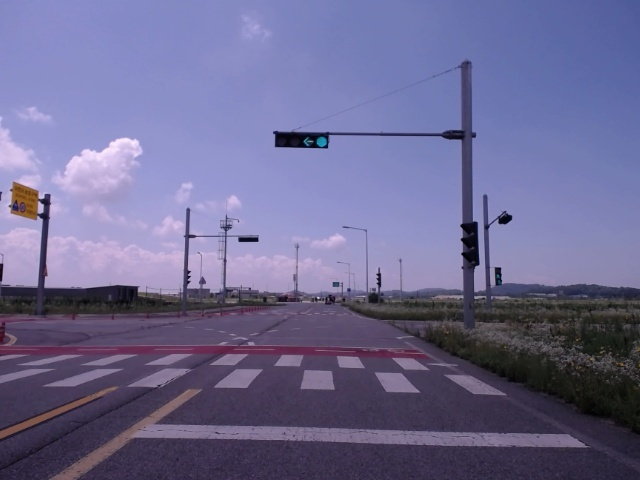all_green_4: (272, 134, 337, 149)
